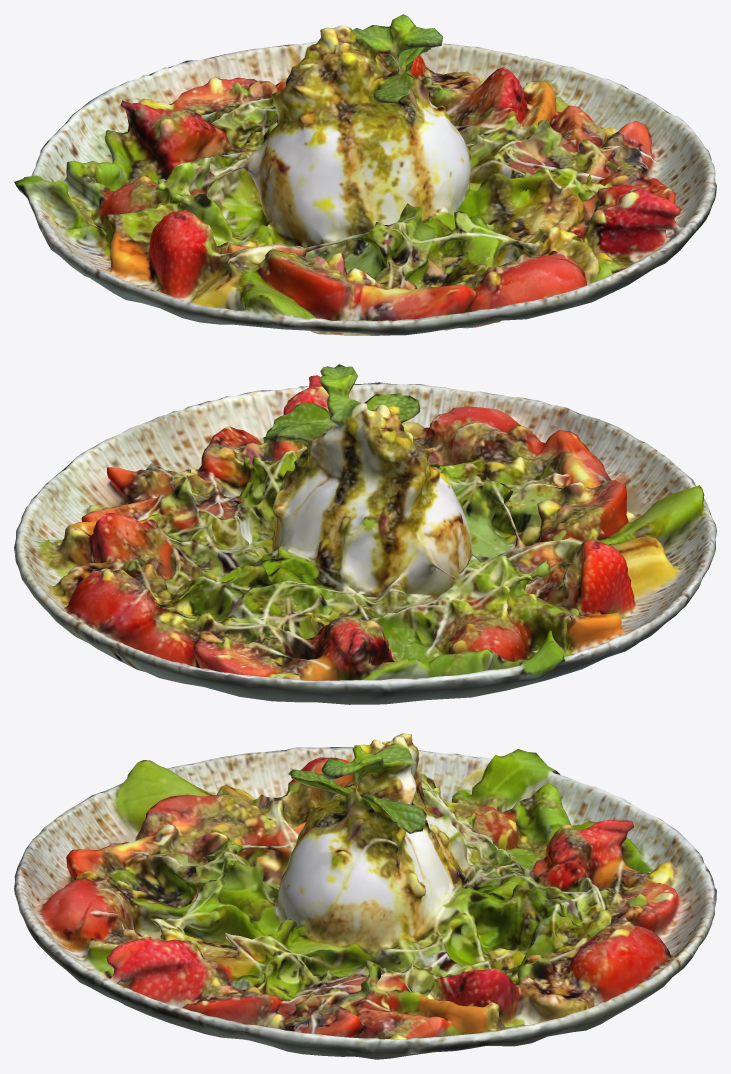
The model's file is burrata.ar.glb.
3 views of the same model, one above another, from view 1: azimuth 30°, elevation 25°; view 2: azimuth 150°, elevation 25°; view 3: azimuth 270°, elevation 25° (orthographic).
Visible parts, largest first — view 1: /ObjectCapture/Geometry/Mesh; view 2: /ObjectCapture/Geometry/Mesh; view 3: /ObjectCapture/Geometry/Mesh.
Part boxes in pixels (<box>): /ObjectCapture/Geometry/Mesh: <box>14,14,716,335</box>; /ObjectCapture/Geometry/Mesh: <box>14,364,716,704</box>; /ObjectCapture/Geometry/Mesh: <box>14,733,716,1059</box>.
Size of the model in its own units: 0.2647 by 0.087 by 0.266.
1 material, 1 textured.
